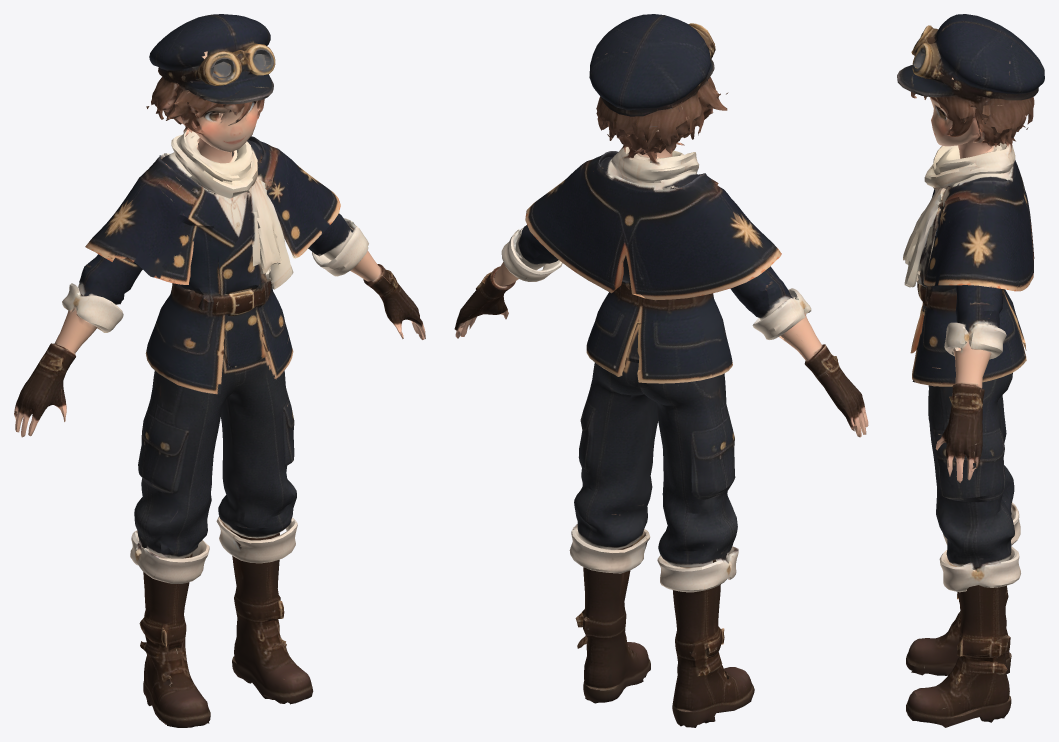
The model's file is navigator-model-v01.glb.
The picture shows the model from 3 angles, left to right: view 1: azimuth 30°, elevation 25°; view 2: azimuth 150°, elevation 25°; view 3: azimuth 270°, elevation 25°; orthographic projection.
Bounding box in the file's own units: 1.18 × 1.9 × 0.3789.
Materials: 1 (1 with a texture image).
